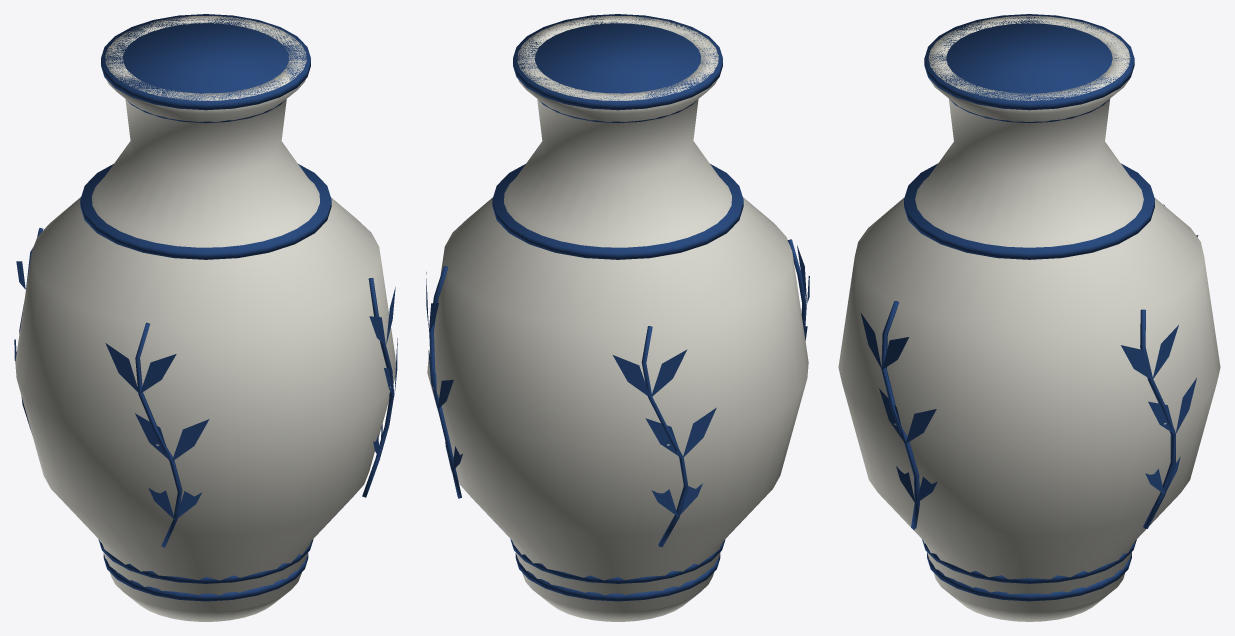
Rendered from tavara-maljakko.glb.
3 renders of one model, left to right at view 1: azimuth 30°, elevation 25°; view 2: azimuth 150°, elevation 25°; view 3: azimuth 270°, elevation 25°, orthographic.
Parts seen in each view (by area): view 1: tavara-maljakko; view 2: tavara-maljakko; view 3: tavara-maljakko.
Part boxes in pixels (bbox=[...]): tavara-maljakko: bbox=[14, 14, 397, 621]; tavara-maljakko: bbox=[426, 14, 809, 621]; tavara-maljakko: bbox=[838, 14, 1220, 621].
Bounding box in the file's own units: 0.28 × 0.43 × 0.28.
